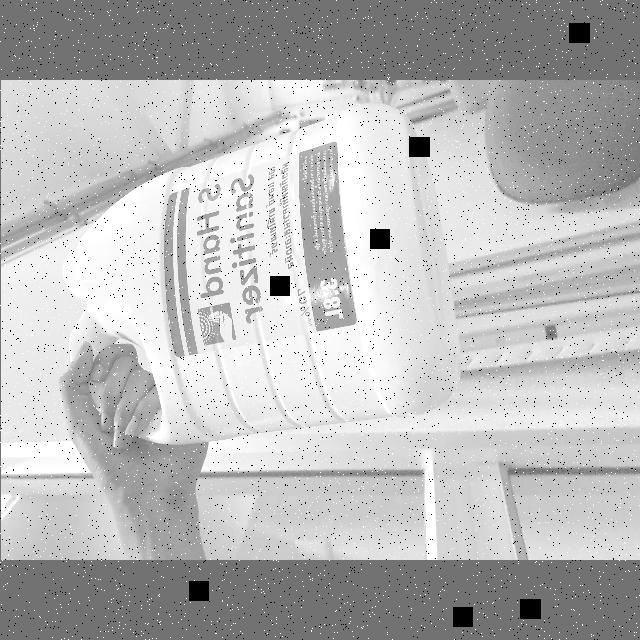chemical_plastic_gallon: (56, 106, 460, 448)
